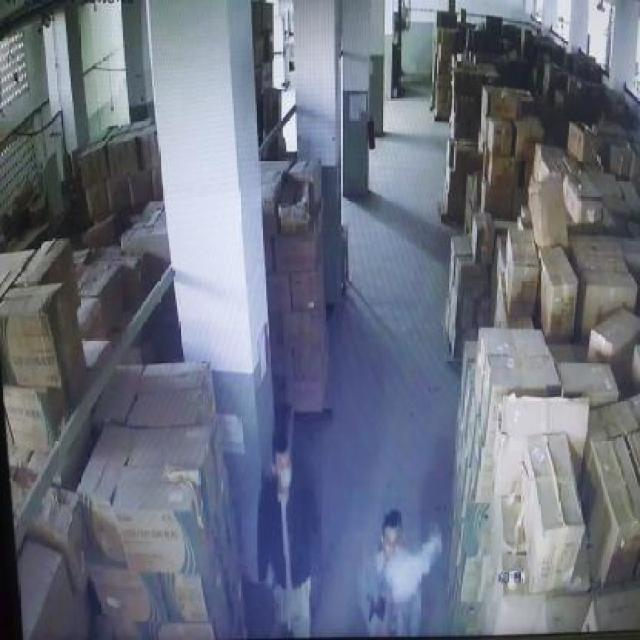fire: (378, 528, 444, 606)
